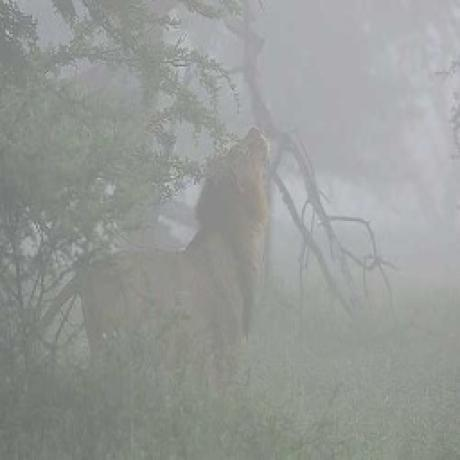Lion: (167, 121, 284, 350)
